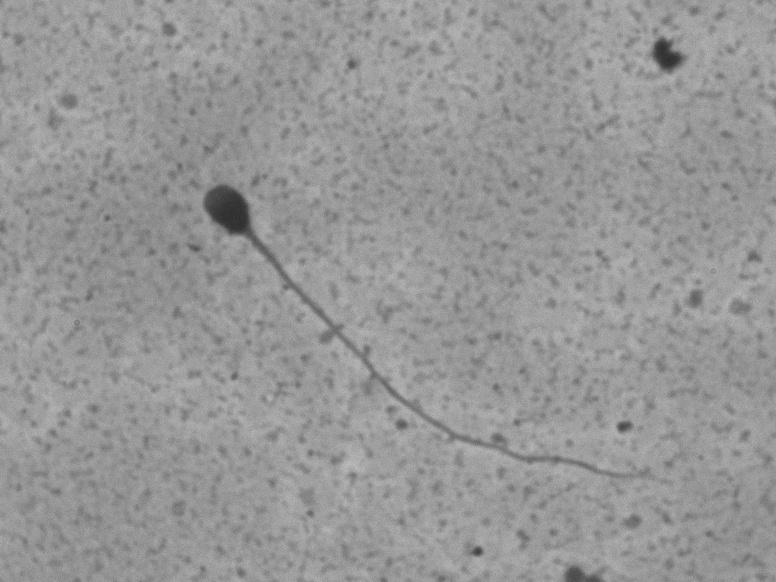Normal: (151, 161, 695, 493)
